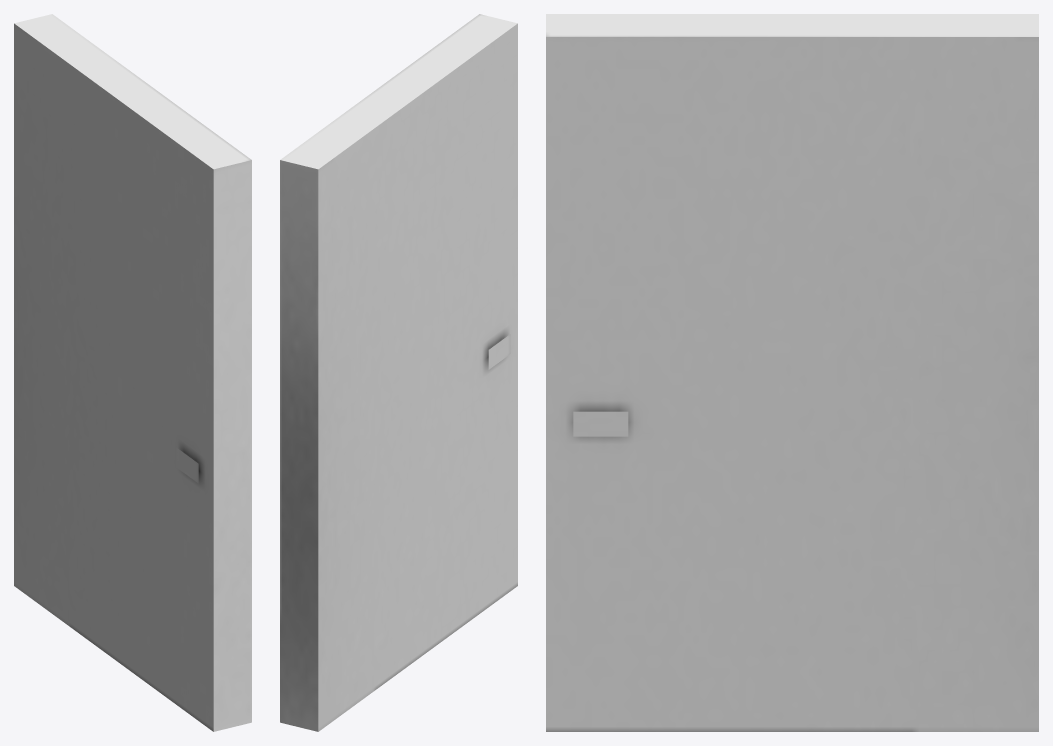
The model's file is mdlDoor.fbx.
3 views of the same model, side by side, from view 1: azimuth 30°, elevation 25°; view 2: azimuth 150°, elevation 25°; view 3: azimuth 270°, elevation 25° (orthographic). The views are drawn at different scales.
Visible parts, largest first — view 1: Door; view 2: Door; view 3: Door.
Boxes of the visible parts, box(x1,y1,x2,y2) form: Door: box(14, 14, 251, 731); Door: box(280, 14, 517, 731); Door: box(546, 14, 1038, 731).
Bounding box in the file's own units: 24 × 280 × 180.
Materials: 1 (1 with a texture image).
